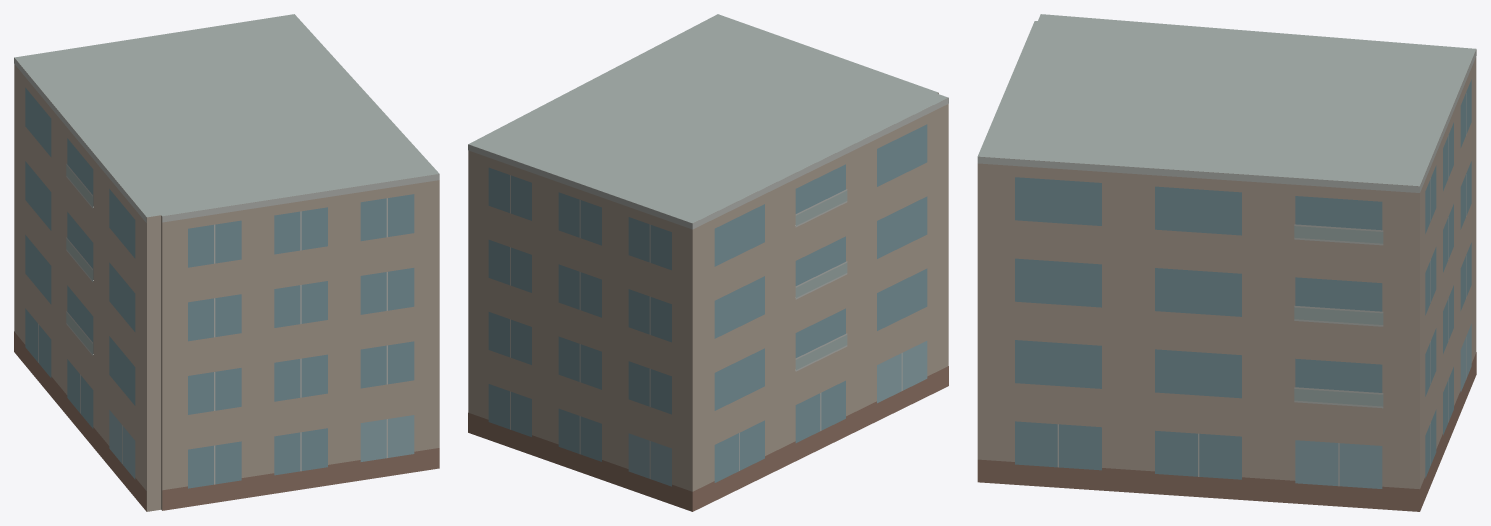
The model's file is survey-upis-32745035.glb.
3 renders of one model, left to right at view 1: azimuth 30°, elevation 25°; view 2: azimuth 150°, elevation 25°; view 3: azimuth 270°, elevation 25°, orthographic. The views are drawn at different scales.
Visible parts, largest first — view 1: survey-upis-32745035.tmp; view 2: survey-upis-32745035.tmp; view 3: survey-upis-32745035.tmp.
Boxes of the visible parts, <box> form: survey-upis-32745035.tmp: <box>14,14,439,511</box>; survey-upis-32745035.tmp: <box>468,14,948,511</box>; survey-upis-32745035.tmp: <box>977,14,1476,511</box>.
Bounding box in the file's own units: 13.17 × 11.6 × 16.12.
